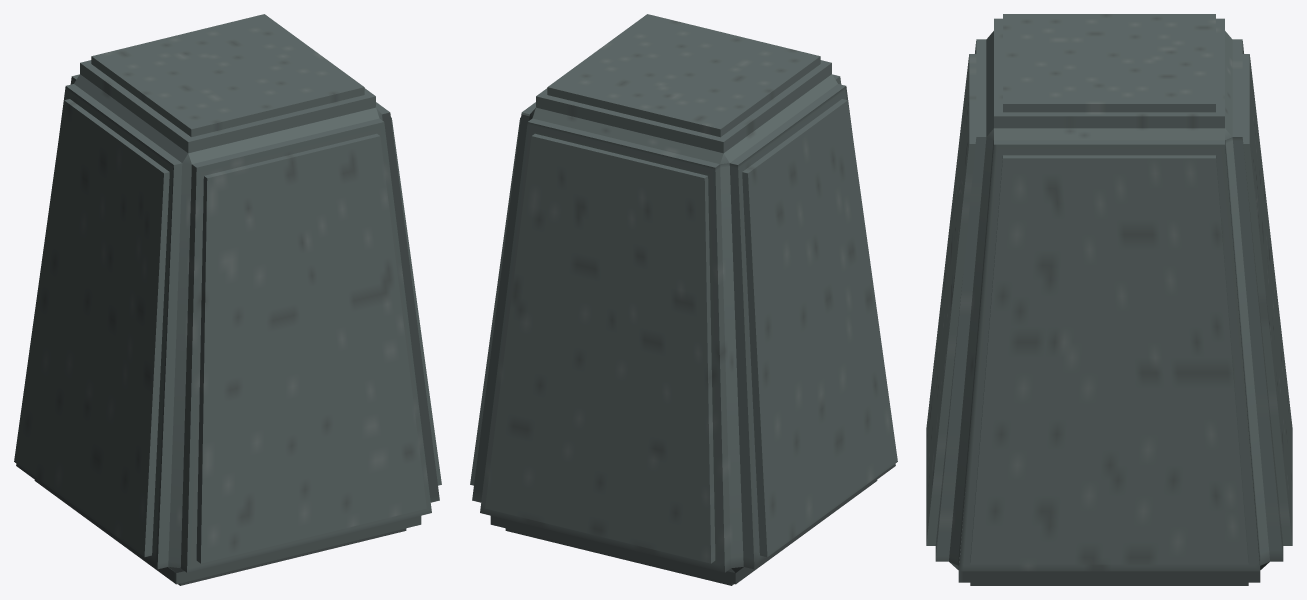
The model's file is Stone 4.fbx.
3 views of the same model, side by side, from view 1: azimuth 30°, elevation 25°; view 2: azimuth 150°, elevation 25°; view 3: azimuth 270°, elevation 25° (orthographic). The views are drawn at different scales.
Visible parts, largest first — view 1: Stone 4; view 2: Stone 4; view 3: Stone 4.
Boxes of the visible parts, bbox=[...] form: Stone 4: bbox=[14, 14, 441, 585]; Stone 4: bbox=[470, 14, 897, 585]; Stone 4: bbox=[926, 14, 1292, 585].
Size of the model in its own units: 73.05 by 103 by 73.05.
1 material, 1 textured.
